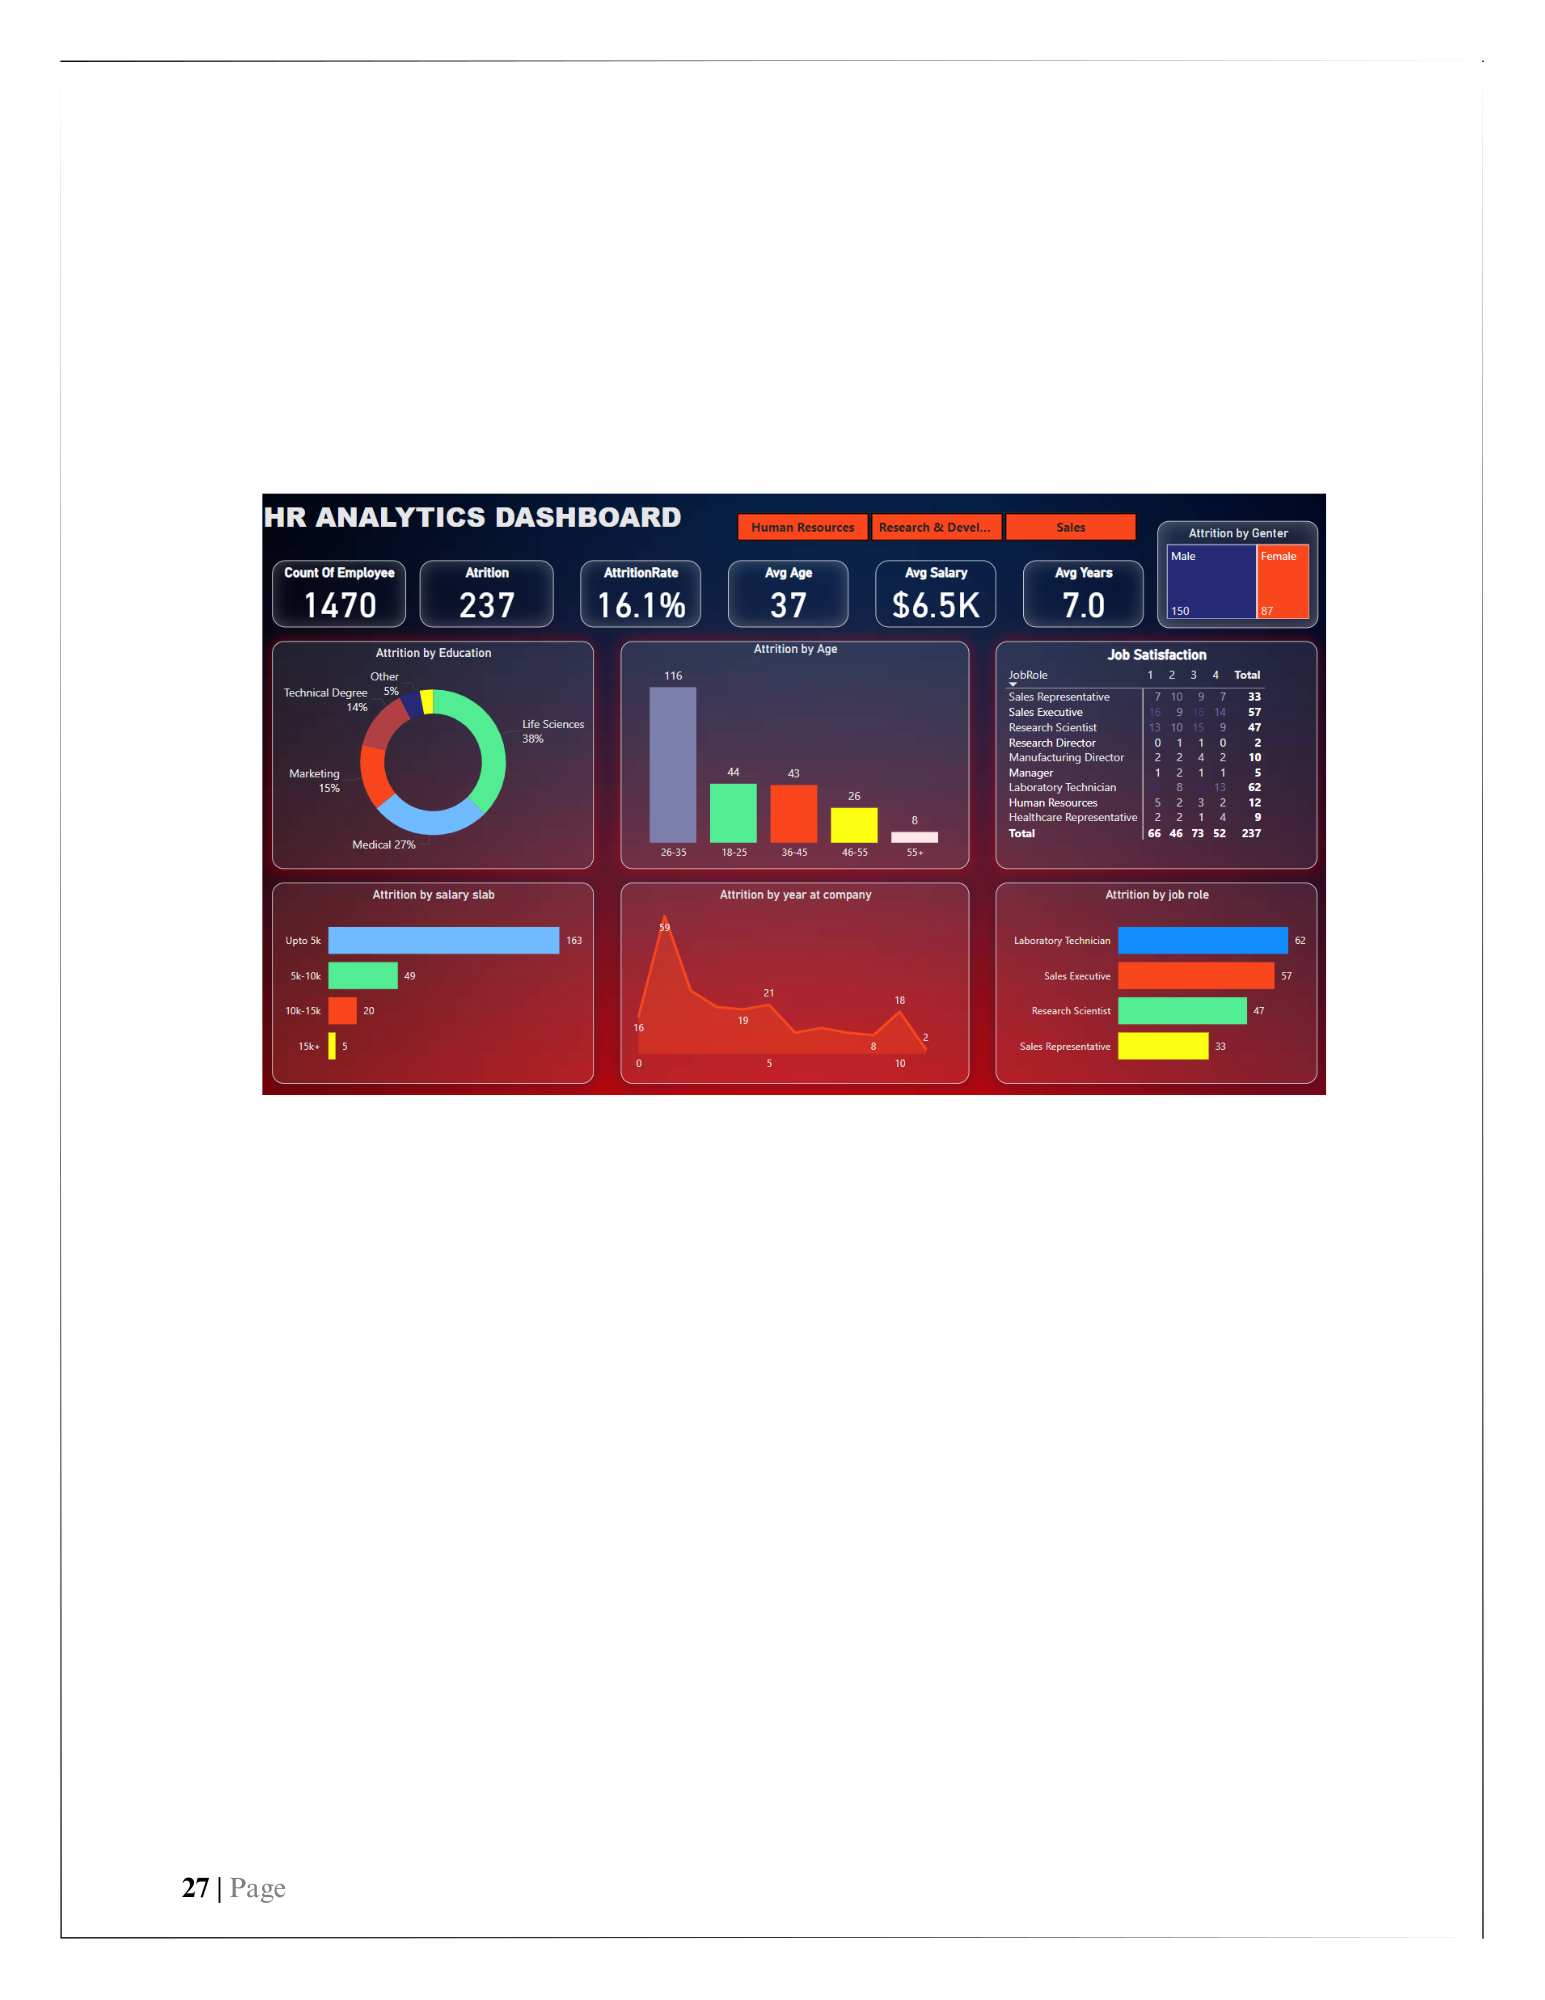

This screenshot's page, from the dashboard's own definition file:
{"tool":"powerbi","page":{"name":"Page 1","canvas":[1280,720],"ordinal":0},"visuals":[{"type":"card","title":"Count Of Employee","fields":{"Values":["CountNonNull(HR_Analytics (5).EmpID)"]},"box":[16,80,160,80],"z":0},{"type":"card","title":"AttritionRate","fields":{"Values":["HR_Analytics.AttritionRate"]},"box":[384,80,144,80],"z":1000},{"type":"card","title":"Avg Age","fields":{"Values":["Avg(HR_Analytics.Age)"]},"box":[560,80,144,80],"z":2000},{"type":"card","title":"Avg Years","fields":{"Values":["Avg(HR_Analytics.YearsAtCompany)"]},"box":[912,80,144,80],"z":3000},{"type":"card","title":"Avg Salary","fields":{"Values":["Avg(HR_Analytics.MonthlyIncome)"]},"box":[736,80,144,80],"z":4000},{"type":"donutChart","title":"Attrition by Education","fields":{"Category":["HR_Analytics.EducationField"],"Y":["Sum(HR_Analytics.AttritionCount)"]},"box":[16,176,384,272],"z":5000},{"type":"columnChart","title":"Attrition by Age","fields":{"Category":["HR_Analytics.AgeGroup"],"Y":["Sum(HR_Analytics.AttritionCount)"]},"box":[432,176,416,272],"z":6000},{"type":"card","title":"Count Of Employee","fields":{"Values":["CountNonNull(HR_Analytics (5).EmpID)"]},"box":[192,80,160,80],"z":7000},{"type":"barChart","title":"Attrition by Age","fields":{"Category":["HR_Analytics.SalarySlab"],"Y":["Sum(HR_Analytics.AttritionCount)"]},"box":[16,464,384,240],"z":8000},{"type":"pivotTable","title":"Job Satisfaction","fields":{"Rows":["HR_Analytics.JobRole"],"Columns":["HR_Analytics.JobSatisfaction"],"Values":["Sum(HR_Analytics.AttritionCount)"]},"box":[880,176,384,272],"z":9000},{"type":"barChart","title":"Attrition by Age","fields":{"Category":["HR_Analytics.JobRole"],"Y":["Sum(HR_Analytics.AttritionCount)"]},"box":[880,464,384,240],"z":10000},{"type":"areaChart","title":"Attrition by Age","fields":{"Y":["Sum(HR_Analytics.AttritionCount)"],"Category":["HR_Analytics.YearsAtCompany"]},"box":[432,464,416,240],"z":11000},{"type":"treemap","title":"Attrition by Genter","fields":{"Values":["Sum(HR_Analytics.AttritionCount)"],"Group":["HR_Analytics.Gender"]},"box":[1072,32,192,128],"z":12000},{"type":"slicer","fields":{"Values":["HR_Analytics.Department"]},"box":[544,16,528,48],"z":13000},{"type":"textbox","box":[0,0,527.2,55.5],"z":14000}]}

Visuals, with their boxes on the page's 1280x720 design canvas (x1, y1, x2, y2). These are canvas units, not pixel positions in the 1545x2000 screenshot, which may show the page scaled, cropped or inside an application window:
"Count Of Employee" card: box(16, 80, 176, 160)
"AttritionRate" card: box(384, 80, 528, 160)
"Avg Age" card: box(560, 80, 704, 160)
"Avg Years" card: box(912, 80, 1056, 160)
"Avg Salary" card: box(736, 80, 880, 160)
"Attrition by Education" donutChart: box(16, 176, 400, 448)
"Attrition by Age" columnChart: box(432, 176, 848, 448)
"Count Of Employee" card: box(192, 80, 352, 160)
"Attrition by Age" barChart: box(16, 464, 400, 704)
"Job Satisfaction" pivotTable: box(880, 176, 1264, 448)
"Attrition by Age" barChart: box(880, 464, 1264, 704)
"Attrition by Age" areaChart: box(432, 464, 848, 704)
"Attrition by Genter" treemap: box(1072, 32, 1264, 160)
slicer - HR_Analytics.Department: box(544, 16, 1072, 64)
textbox: box(0, 0, 527, 56)
